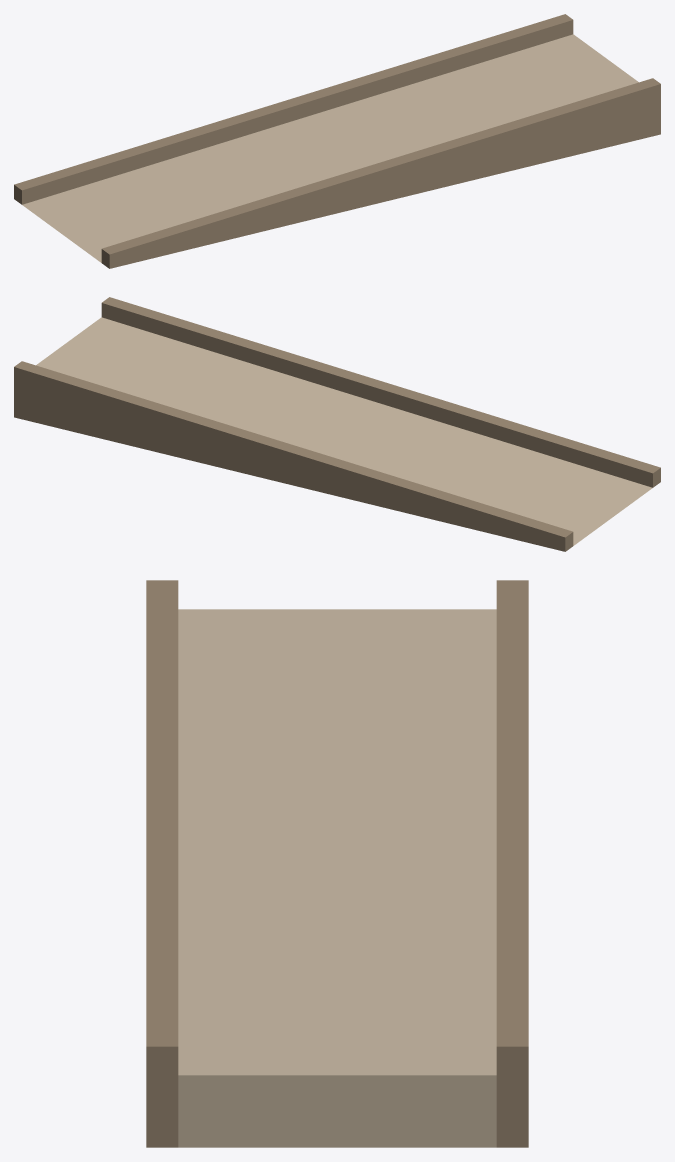
Rendered from city_ramp_8.glb.
The picture shows the model from 3 angles, top to bottom: view 1: azimuth 30°, elevation 25°; view 2: azimuth 150°, elevation 25°; view 3: azimuth 270°, elevation 25°; orthographic projection. The views are drawn at different scales.
Parts seen in each view (by area): view 1: CityRamp8_Ramp, CityRamp8_Kerb-0.2, CityRamp8_Kerb2.0; view 2: CityRamp8_Ramp, CityRamp8_Kerb2.0, CityRamp8_Kerb-0.2; view 3: CityRamp8_Ramp, CityRamp8_Kerb2.0, CityRamp8_Kerb-0.2.
Part boxes in pixels (<box>): CityRamp8_Ramp: <box>22,34,638,262</box>; CityRamp8_Kerb-0.2: <box>101,78,660,268</box>; CityRamp8_Kerb2.0: <box>14,14,573,204</box>; CityRamp8_Ramp: <box>36,317,652,545</box>; CityRamp8_Kerb2.0: <box>14,361,573,551</box>; CityRamp8_Kerb-0.2: <box>101,297,660,487</box>; CityRamp8_Ramp: <box>178,609,496,1147</box>; CityRamp8_Kerb2.0: <box>496,580,528,1147</box>; CityRamp8_Kerb-0.2: <box>146,580,178,1147</box>.
Size of the model in its own units: 8 by 0.7 by 2.4.
